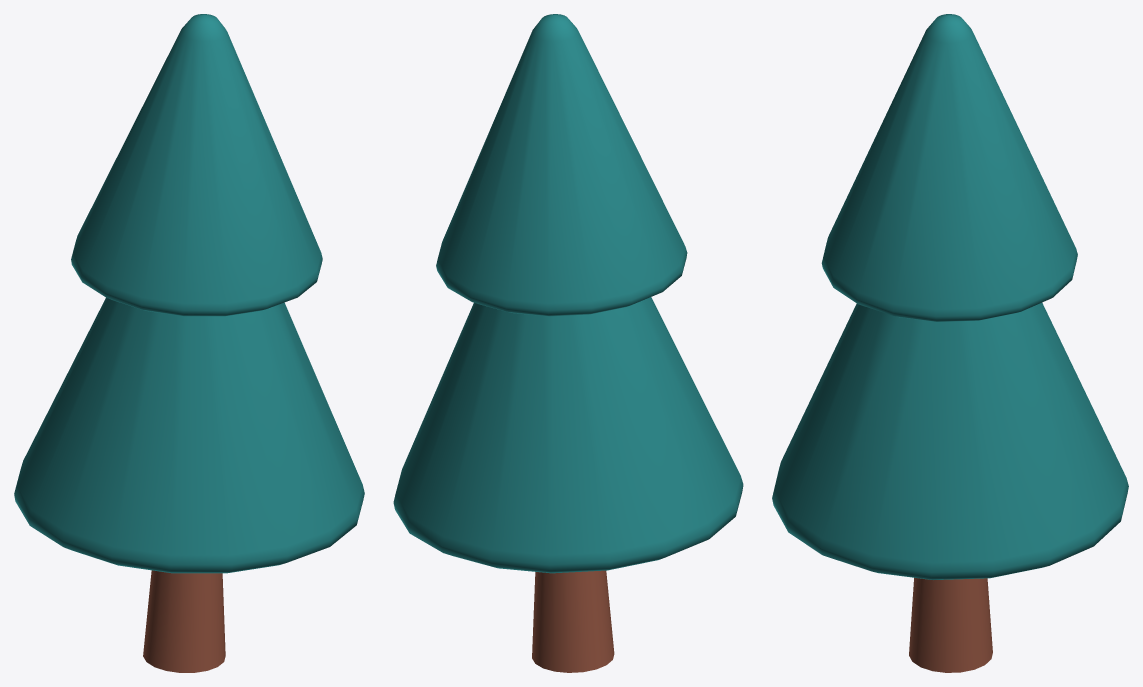
File: Tree.fbx
The picture shows the model from 3 angles, left to right: view 1: azimuth 30°, elevation 25°; view 2: azimuth 150°, elevation 25°; view 3: azimuth 270°, elevation 25°; orthographic projection.
Parts seen in each view (by area): view 1: detail_forestB; view 2: detail_forestB; view 3: detail_forestB.
Part boxes in pixels (left/top/right/bottom): detail_forestB: left=14, top=14, right=364, bottom=672; detail_forestB: left=393, top=14, right=743, bottom=672; detail_forestB: left=772, top=14, right=1128, bottom=672.
Bounding box in the file's own units: 36.43 × 73.38 × 36.57.
